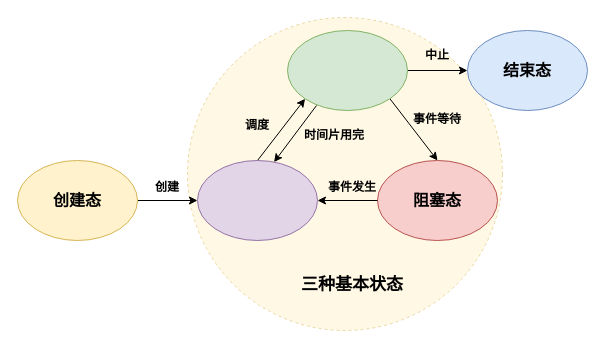
This 605x348 diagram has some shape labels left out. The shapes that lost their labels are listed below. From the top down, each one's centre as x and y in pixels, then its label:
At point (347, 70): "运行态".
At point (257, 200): "就绪态".
